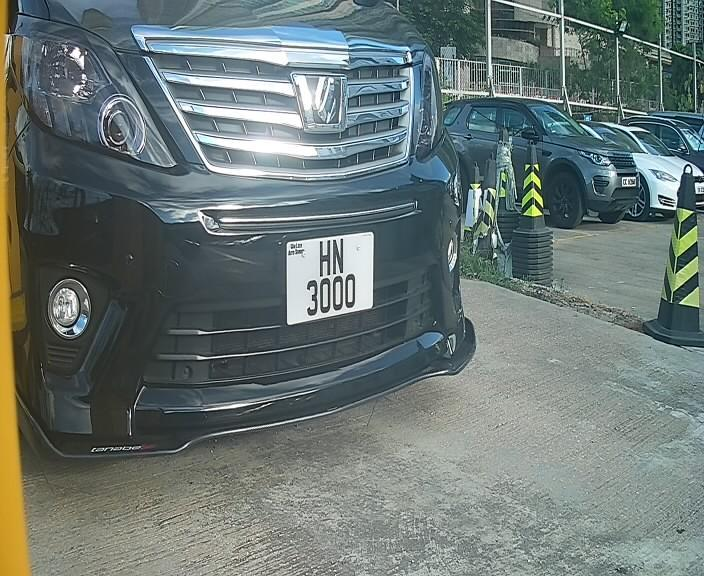License Plate: (280, 227, 381, 330)
